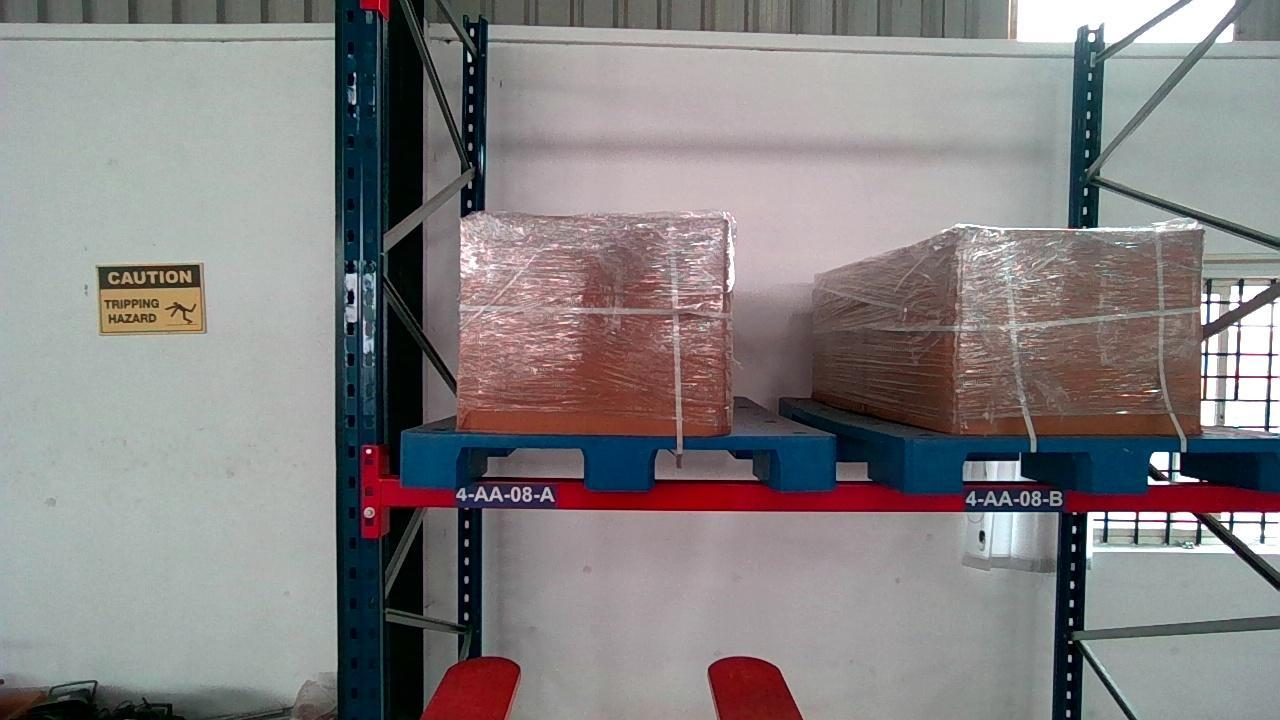h_rack: (380, 481, 1278, 511)
small_pallet: (401, 431, 836, 489), (910, 438, 1278, 491)
